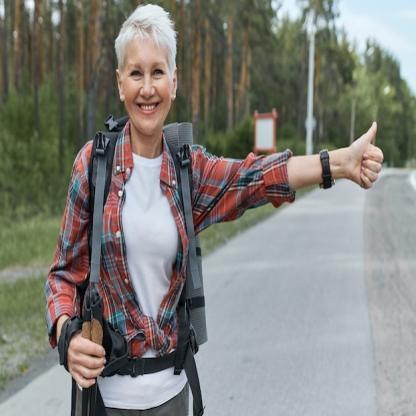thumb_up: (344, 119, 386, 194)
